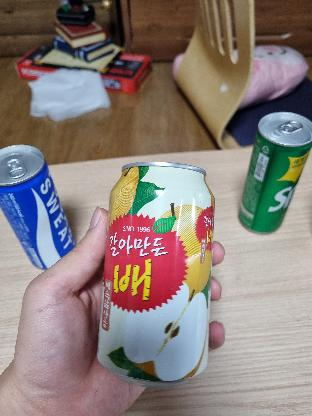Can: (96, 140, 216, 386), (238, 110, 310, 238)
